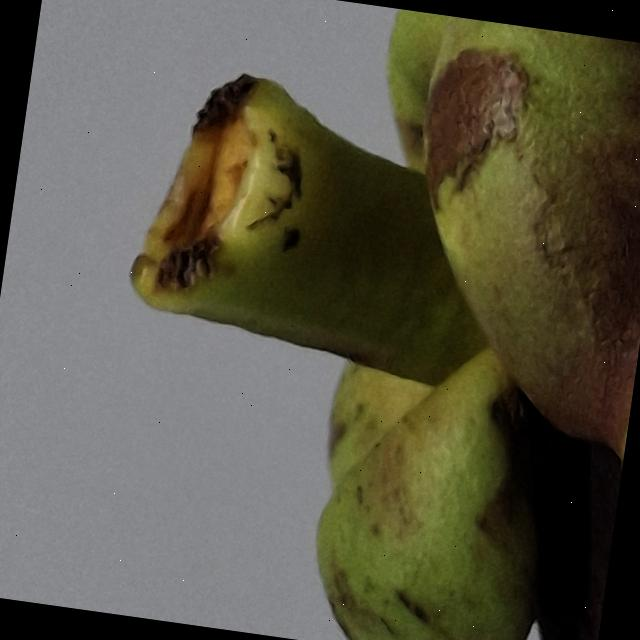mangosteen: (47, 0, 640, 640)
